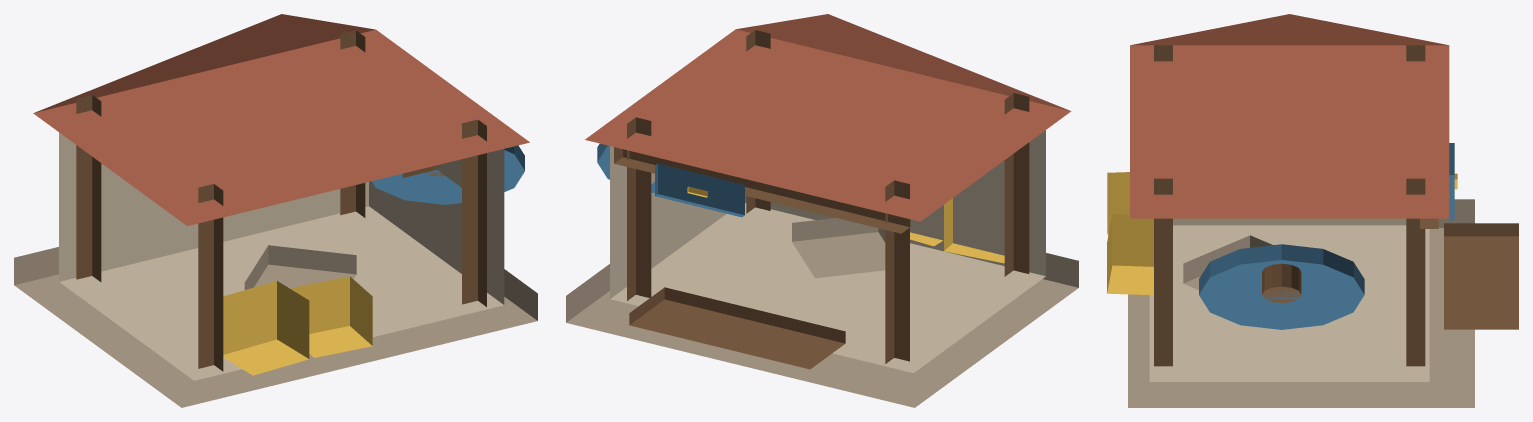
Rendered from Mill_authoring.glb.
The picture shows the model from 3 angles, left to right: view 1: azimuth 30°, elevation 25°; view 2: azimuth 150°, elevation 25°; view 3: azimuth 270°, elevation 25°; orthographic projection. The views are drawn at different scales.
Parts seen in each view (by area): view 1: Mill_authoring; view 2: Mill_authoring; view 3: Mill_authoring.
Part boxes in pixels (x1,y1,x2,y2): Mill_authoring: (14,14,537,407); Mill_authoring: (566,14,1078,407); Mill_authoring: (1107,14,1518,407).
Bounding box in the file's own units: 6.17 × 4.25 × 5.22.
